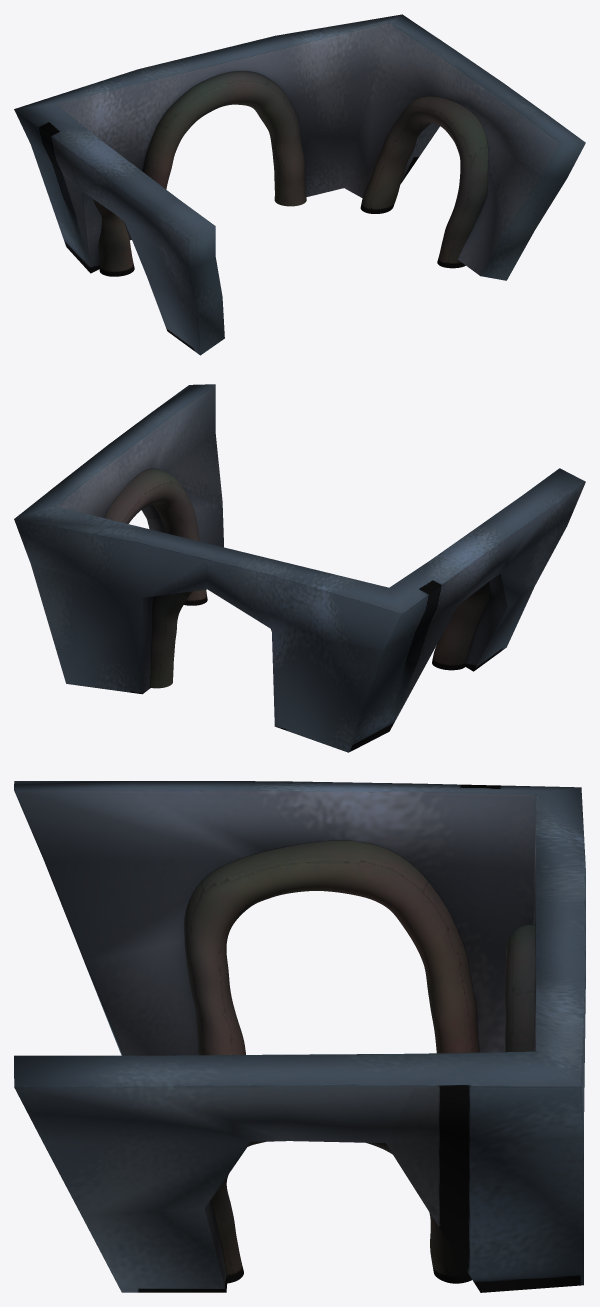
Rendered from Pared2.fbx.
3 renders of one model, top to bottom at view 1: azimuth 30°, elevation 25°; view 2: azimuth 150°, elevation 25°; view 3: azimuth 270°, elevation 25°, orthographic. The views are drawn at different scales.
Parts seen in each view (by area): view 1: BézierCurve.001; view 2: BézierCurve.001; view 3: BézierCurve.001.
Boxes of the visible parts, <box> form: BézierCurve.001: <box>14,14,585,355</box>; BézierCurve.001: <box>14,384,585,752</box>; BézierCurve.001: <box>14,781,585,1292</box>.
Size of the model in its own units: 1165 by 452 by 919.
Materials: 1 (1 with a texture image).
